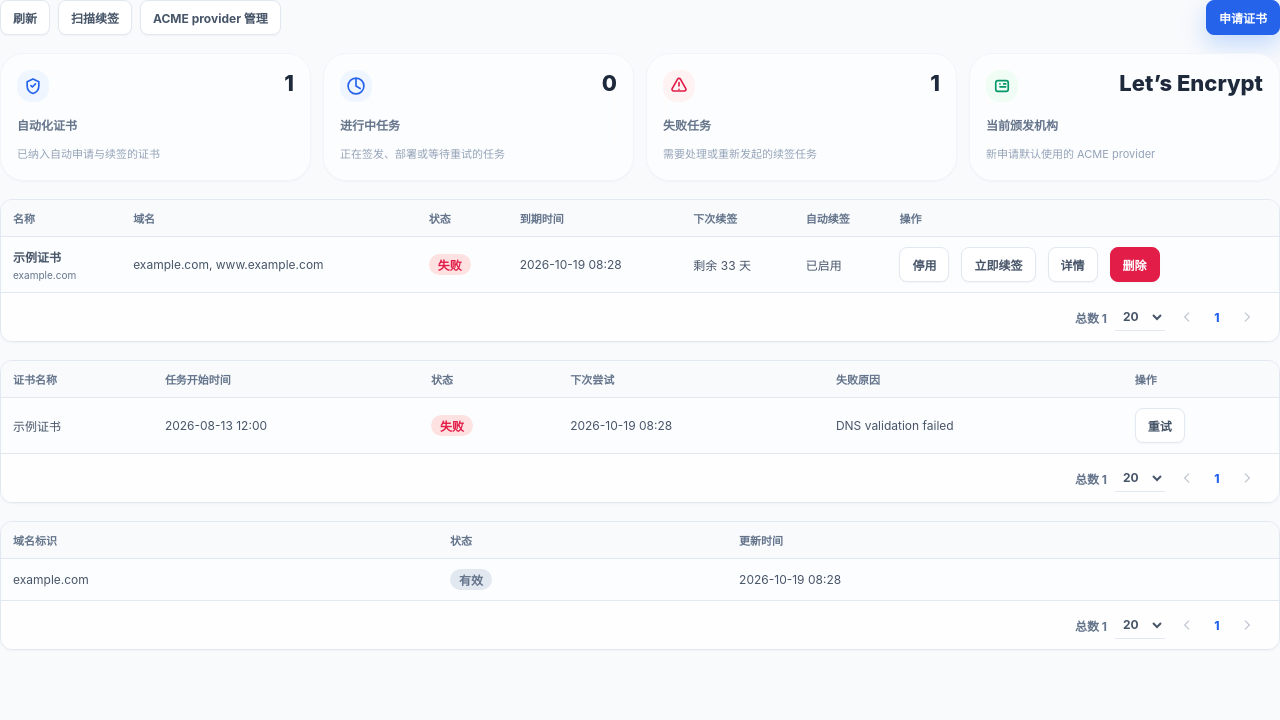
AcmeOperationsView › 恢复 ACME 记录的到期、续签、任务、订单和详情关联
Click the button "详情" at (1072, 264), box top-left (1048, 247), bottom-right (1098, 282)
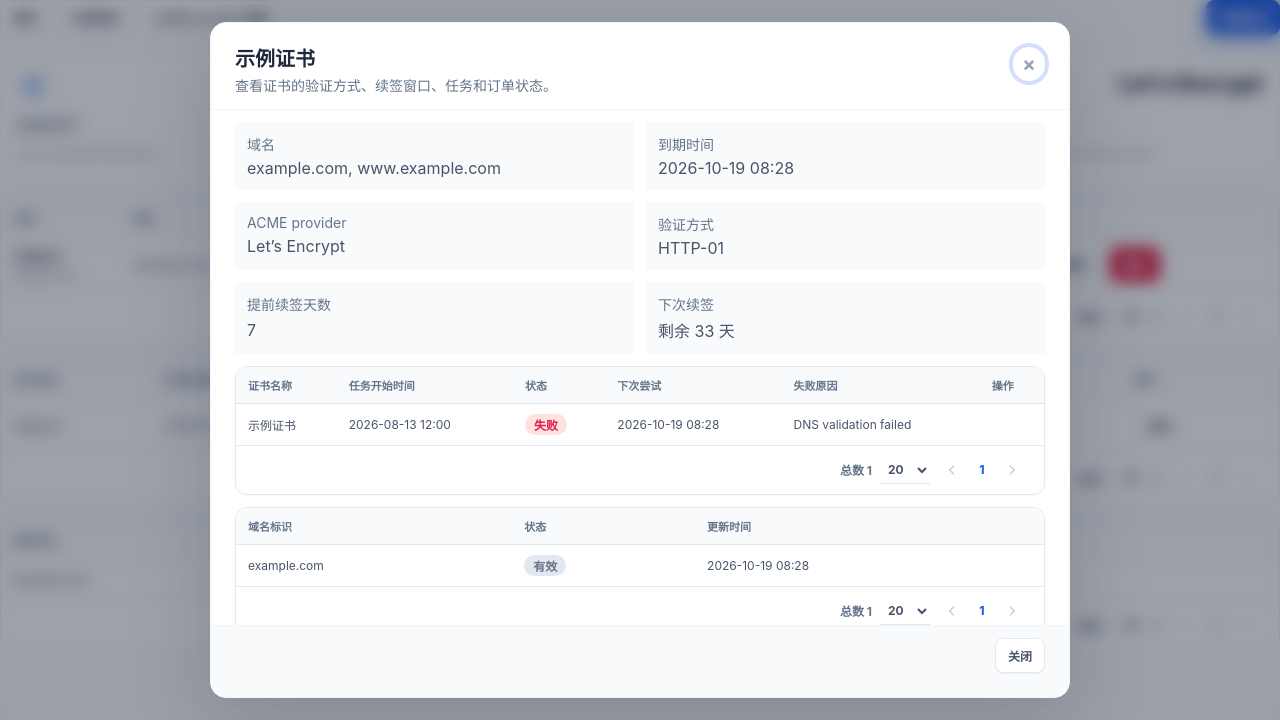
Now the text "验证方式" is shown, box top-left (235, 77), bottom-right (557, 94)
Now the text "HTTP-01" is shown, box top-left (658, 238), bottom-right (724, 258)
Now the text "提前续签天数" is shown, box top-left (247, 296), bottom-right (331, 313)
